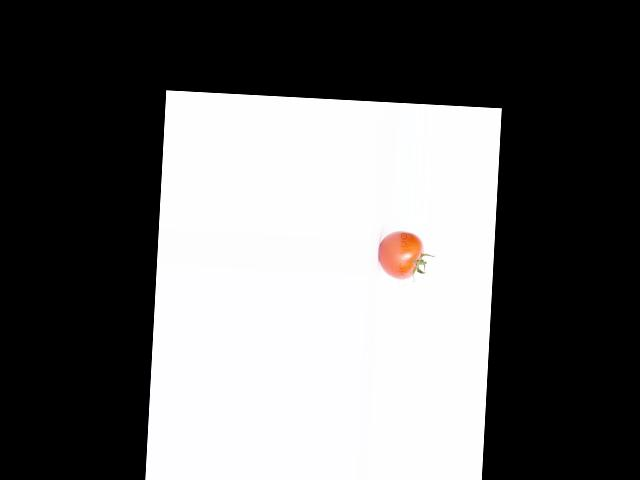tomato: (377, 229, 424, 279)
